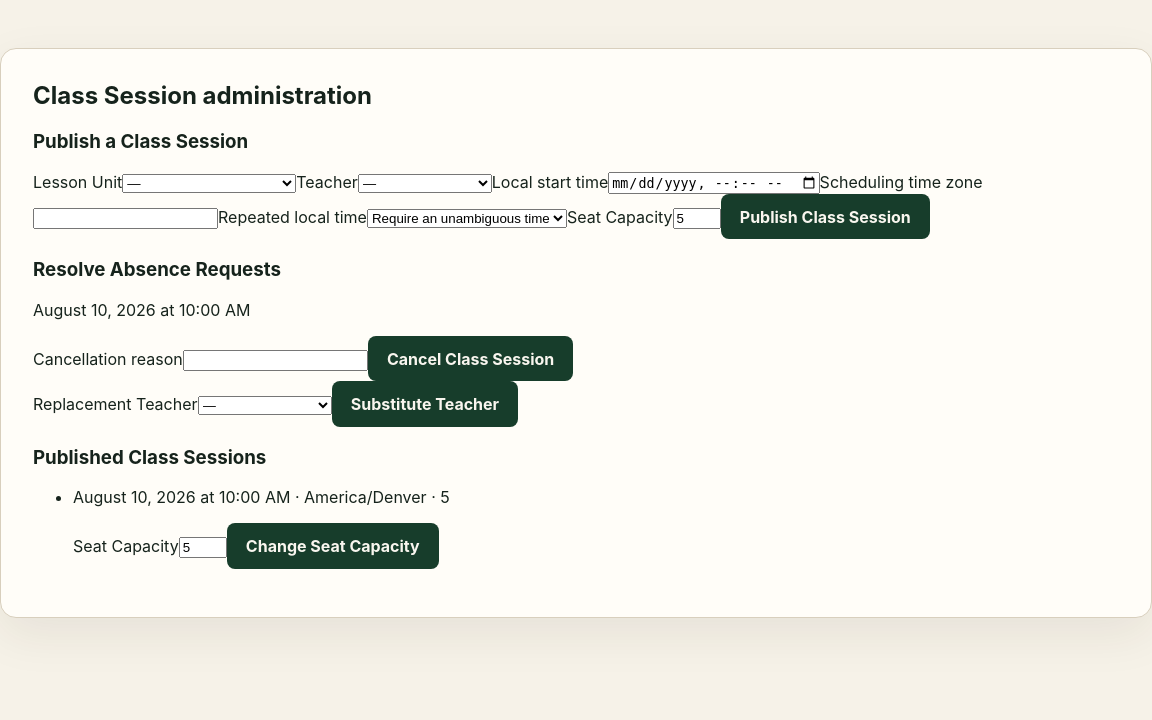
Test case: Platform Administrator Class Session journey › resolves an Absence Request through a reasoned Class Session Cancellation
This screenshot has width=1152, height=720.
Type "No qualified replacement accepted the assignment." into the field labelled "Cancellation reason". click: [275, 360]
box: left=183, top=350, right=368, bottom=371
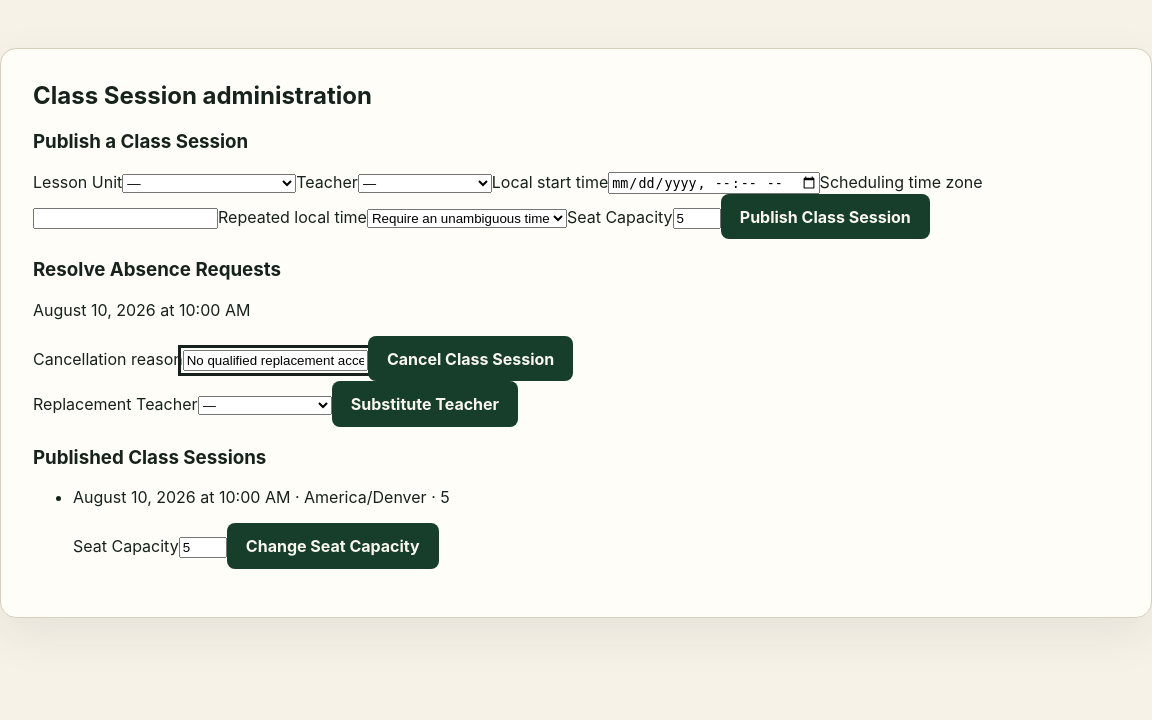
Click the button "Cancel Class Session". click: [471, 359]
box: left=368, top=336, right=574, bottom=381
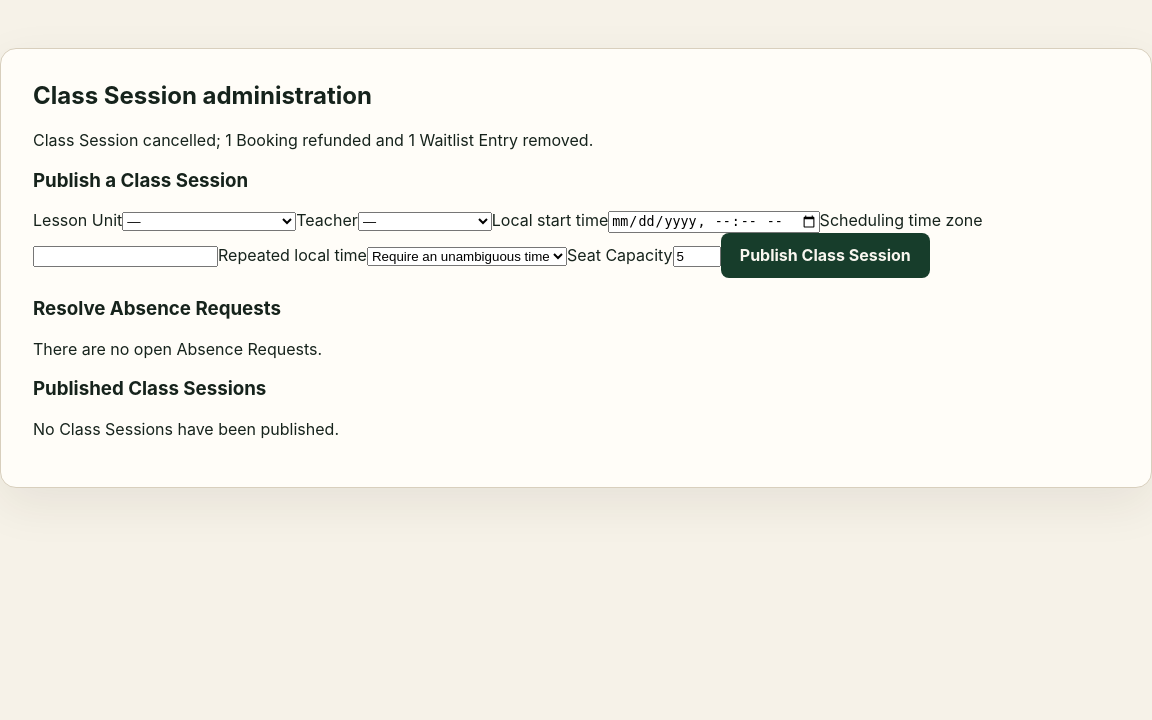
Result: the message reads "Class Session cancelled; 1 Booking refunded and 1 Waitlist Entry removed." at left=33, top=130, right=593, bottom=150
